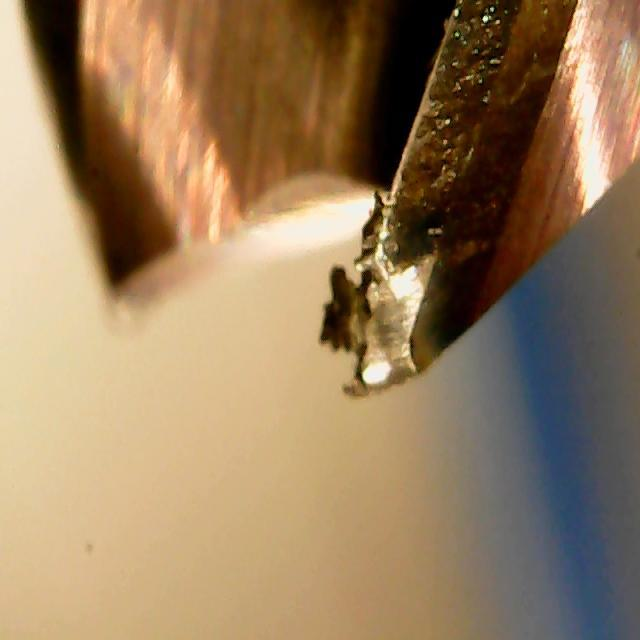Tool-wear-class-2: (325, 35, 489, 415)
